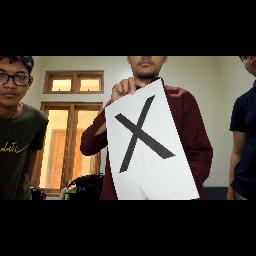x: (112, 92, 180, 176)
